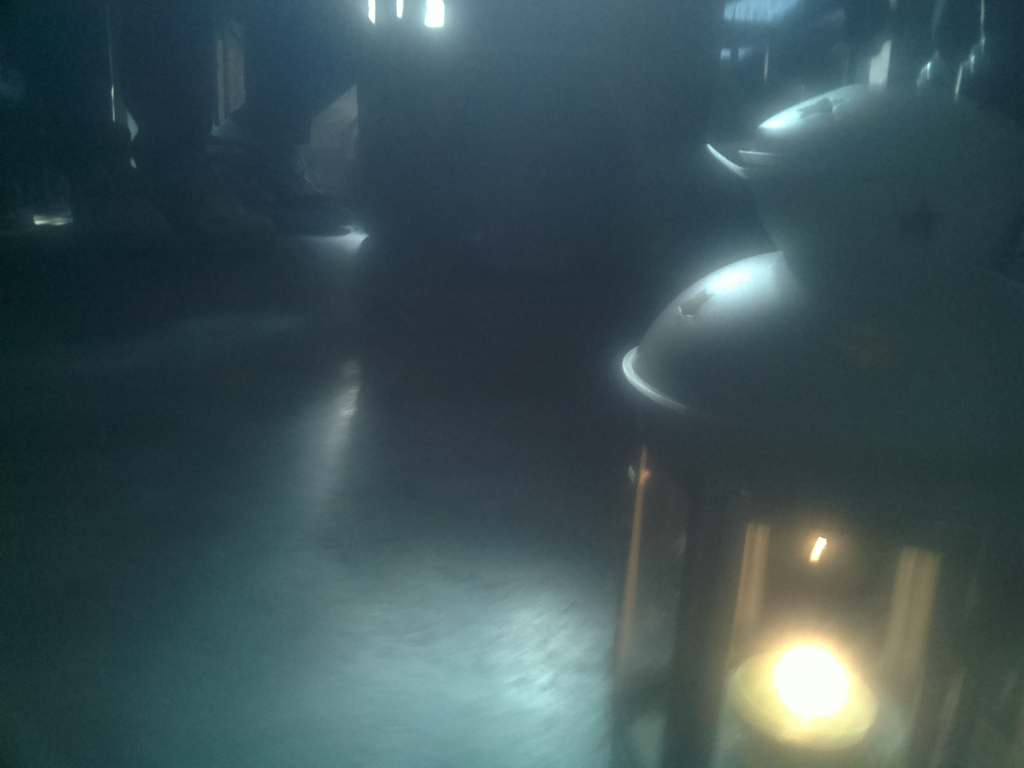fire: (692, 631, 928, 737)
